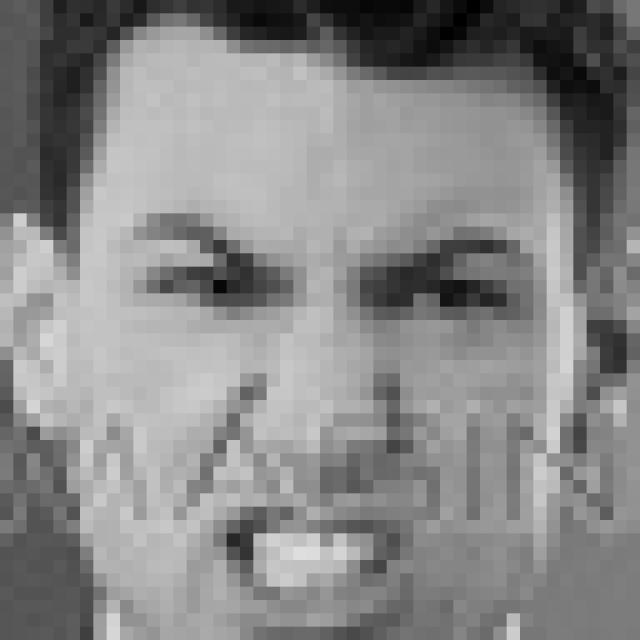angry: (123, 202, 541, 640)
